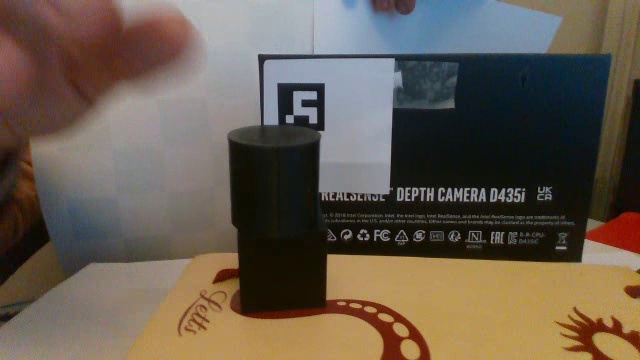cube: (227, 233, 338, 321)
cylindre: (212, 122, 336, 235)
